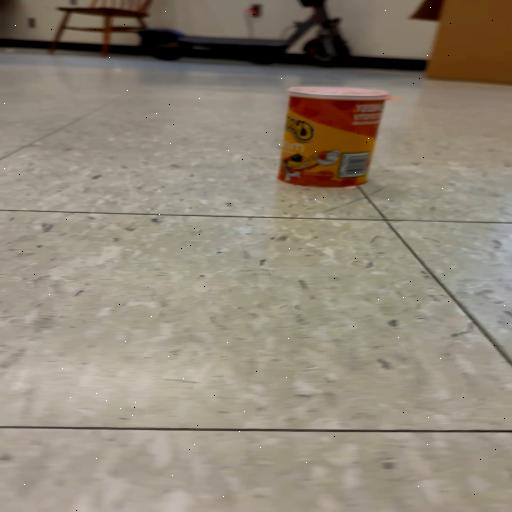pringles: (279, 89, 385, 186)
